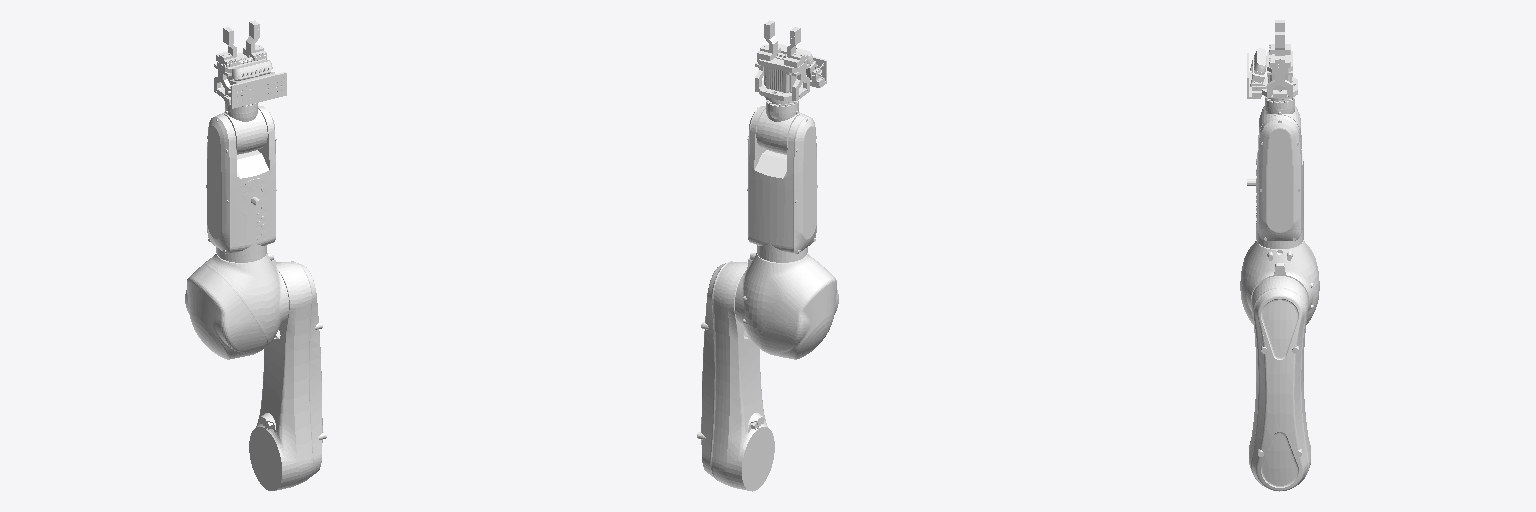
URDF robot description (rs007n):
<?xml version="1.0" ?>
<!-- =================================================================================== -->
<!-- |    This document was autogenerated by xacro from rs007n.urdf.xacro              | -->
<!-- |    EDITING THIS FILE BY HAND IS NOT RECOMMENDED                                 | -->
<!-- =================================================================================== -->
<robot name="rs007n" xmlns:xacro="http://ros.org/wiki/xacro">
  <transmission name="$join1_trans">
    <type>transmission_interface/SimpleTransmission</type>
    <actuator name="joint1_motor">
      <hardwareInterface>hardware_interface/PositionJointInterface</hardwareInterface>
      <mechanicalReduction>1</mechanicalReduction>
    </actuator>
    <joint name="joint1">
      <hardwareInterface>hardware_interface/PositionJointInterface</hardwareInterface>
    </joint>
  </transmission>
  <transmission name="$join2_trans">
    <type>transmission_interface/SimpleTransmission</type>
    <actuator name="joint2_motor">
      <hardwareInterface>hardware_interface/PositionJointInterface</hardwareInterface>
      <mechanicalReduction>1</mechanicalReduction>
    </actuator>
    <joint name="joint2">
      <hardwareInterface>hardware_interface/PositionJointInterface</hardwareInterface>
    </joint>
  </transmission>
  <transmission name="$join3_trans">
    <type>transmission_interface/SimpleTransmission</type>
    <actuator name="joint3_motor">
      <hardwareInterface>hardware_interface/PositionJointInterface</hardwareInterface>
      <mechanicalReduction>1</mechanicalReduction>
    </actuator>
    <joint name="joint3">
      <hardwareInterface>hardware_interface/PositionJointInterface</hardwareInterface>
    </joint>
  </transmission>
  <transmission name="$join4_trans">
    <type>transmission_interface/SimpleTransmission</type>
    <actuator name="joint4_motor">
      <hardwareInterface>hardware_interface/PositionJointInterface</hardwareInterface>
      <mechanicalReduction>1</mechanicalReduction>
    </actuator>
    <joint name="joint4">
      <hardwareInterface>hardware_interface/PositionJointInterface</hardwareInterface>
    </joint>
  </transmission>
  <transmission name="$join5_trans">
    <type>transmission_interface/SimpleTransmission</type>
    <actuator name="joint5_motor">
      <hardwareInterface>hardware_interface/PositionJointInterface</hardwareInterface>
      <mechanicalReduction>1</mechanicalReduction>
    </actuator>
    <joint name="joint5">
      <hardwareInterface>hardware_interface/PositionJointInterface</hardwareInterface>
    </joint>
  </transmission>
  <transmission name="$join6_trans">
    <type>transmission_interface/SimpleTransmission</type>
    <actuator name="joint6_motor">
      <hardwareInterface>hardware_interface/PositionJointInterface</hardwareInterface>
      <mechanicalReduction>1</mechanicalReduction>
    </actuator>
    <joint name="joint6">
      <hardwareInterface>hardware_interface/PositionJointInterface</hardwareInterface>
    </joint>
  </transmission>
  <!-- gazebo plugin -->
  <gazebo>
    <plugin filename="libgazebo_ros_control.so" name="gazebo_ros_control">
      <robotNamespace>/</robotNamespace>
    </plugin>
    <!--
    <plugin name="gazebo_ros_power_monitor_controller" filename="libgazebo_ros_power_monitor.so">
      <alwaysOn>true</alwaysOn>
      <updateRate>1.0</updateRate>
      <timeout>5</timeout>
      <powerStateTopic>power_state</powerStateTopic>
      <powerStateRate>10.0</powerStateRate>
      <fullChargeCapacity>87.78</fullChargeCapacity>     
      <dischargeRate>-474</dischargeRate>
      <chargeRate>525</chargeRate>
      <dischargeVoltage>15.52</dischargeVoltage>
      <chargeVoltage>16.41</chargeVoltage>
    </plugin>
-->
  </gazebo>
  <!-- link rviz colors -->
  <material name="White">
    <color rgba="1 1 1 1"/>
  </material>
  <material name="Black">
    <color rgba="0 0 0 1"/>
  </material>
  <!-- rs007n start -->
  <!-- Fix rs007n to world -->
  <link name="world"/>
  <joint name="world2base" type="fixed">
    <parent link="world"/>
    <child link="base_link"/>
    <origin rpy="0 0 0" xyz="0 0 0"/>
  </joint>
  <!-- Link 0 -->
  <link name="base_link">
    <visual>
      <geometry>
        <mesh filename="meshes/RS007N_J0.stl"/>
      </geometry>
      <material name="White"/>
      <origin rpy="0 0 0" xyz="0 0 0"/>
    </visual>
    <collision>
      <geometry>
        <mesh filename="meshes/RS007N_J0.stl"/>
      </geometry>
      <material name="White"/>
      <origin rpy="0 0 0" xyz="0 0 0"/>
    </collision>
    <inertial>
      <mass value="11"/>
      <inertia ixx="1.0" ixy="0.0" ixz="0.0" iyy="1.0" iyz="0.0" izz="1.0"/>
    </inertial>
  </link>
  <!-- Link 1 -->
  <joint name="joint1" type="revolute">
    <axis rpy="0 0 0" xyz="0 0 -1"/>
    <limit effort="1000.0" lower="-3.1415" upper="3.1415" velocity="8.20280555556"/>
    <origin rpy="0 0 0" xyz="0 0 0.36"/>
    <parent link="base_link"/>
    <child link="link1"/>
    <dynamics damping="0.0" friction="0.0"/>
  </joint>
  <link name="link1">
    <visual>
      <geometry>
        <mesh filename="meshes/RS007N_J1.stl"/>
      </geometry>
      <material name="White"/>
      <origin rpy="0 0 0" xyz="0 0 0"/>
    </visual>
    <collision>
      <geometry>
        <mesh filename="meshes/RS007N_J1.stl"/>
      </geometry>
      <material name="White"/>
      <origin rpy="0 0 0" xyz="0 0 0"/>
    </collision>
    <inertial>
      <mass value="8.188"/>
      <inertia ixx="1.0" ixy="0.0" ixz="0.0" iyy="1.0" iyz="0.0" izz="1.0"/>
    </inertial>
  </link>
  <!-- Link 2 -->
  <joint name="joint2" type="revolute">
    <axis rpy="0 0 0" xyz="0 0 1"/>
    <limit effort="1000.0" lower="-2.356125" upper="2.356125" velocity="6.63205555556"/>
    <origin rpy="0 -1.57075 0" xyz="0 0 0.0"/>
    <parent link="link1"/>
    <child link="link2"/>
    <dynamics damping="0.0" friction="0.0"/>
  </joint>
  <link name="link2">
    <visual>
      <geometry>
        <mesh filename="meshes/RS007N_J2_rotated.stl"/>
      </geometry>
      <material name="White"/>
      <origin rpy="0 0 0" xyz="0 0 0"/>
    </visual>
    <collision>
      <geometry>
        <mesh filename="meshes/RS007N_J2_rotated.stl"/>
      </geometry>
      <material name="White"/>
      <origin rpy="0 0 0" xyz="0 0 0"/>
    </collision>
    <inertial>
      <mass value="5.842"/>
      <inertia ixx="1.0" ixy="0.0" ixz="0.0" iyy="1.0" iyz="0.0" izz="1.0"/>
    </inertial>
  </link>
  <!-- Link 3 -->
  <joint name="joint3" type="revolute">
    <axis rpy="0 0 0" xyz="0 0 -1"/>
    <limit effort="1000.0" lower="-2.70518055556" upper="2.70518055556" velocity="9.07544444444"/>
    <origin rpy="0 0 0" xyz="0.355 0 0"/>
    <parent link="link2"/>
    <child link="link3"/>
    <dynamics damping="0.0" friction="0.0"/>
  </joint>
  <link name="link3">
    <visual>
      <geometry>
        <mesh filename="meshes/RS007N_J3_rotated.stl"/>
      </geometry>
      <material name="White"/>
      <origin rpy="0 0 0" xyz="0 0 0"/>
    </visual>
    <collision>
      <geometry>
        <mesh filename="meshes/RS007N_J3_rotated.stl"/>
      </geometry>
      <material name="White"/>
      <origin rpy="0 0 0" xyz="0 0 0"/>
    </collision>
    <inertial>
      <mass value="5.236"/>
      <inertia ixx="1.0" ixy="0.0" ixz="0.0" iyy="1.0" iyz="0.0" izz="1.0"/>
    </inertial>
  </link>
  <!-- Link 4 -->
  <joint name="joint4" type="revolute">
    <axis rpy="0 0 0" xyz="0 0 1"/>
    <limit effort="1000.0" lower="-3.49055555556" upper="3.49055555556" velocity="9.59902777778"/>
    <origin rpy="0 1.57075 0" xyz="0.0925 0 0"/>
    <parent link="link3"/>
    <child link="link4"/>
    <dynamics damping="0.0" friction="0.0"/>
  </joint>
  <link name="link4">
    <visual>
      <geometry>
        <mesh filename="meshes/RS007N_J4_translated.stl"/>
      </geometry>
      <material name="White"/>
      <origin rpy="0 0 0" xyz="0 0 0"/>
    </visual>
    <collision>
      <geometry>
        <mesh filename="meshes/RS007N_J4_translated.stl"/>
      </geometry>
      <material name="White"/>
      <origin rpy="0 0 0" xyz="0 0 0"/>
    </collision>
    <inertial>
      <mass value="4.461"/>
      <inertia ixx="1.0" ixy="0.0" ixz="0.0" iyy="1.0" iyz="0.0" izz="1.0"/>
    </inertial>
  </link>
  <!-- Link 5 -->
  <joint name="joint5" type="revolute">
    <axis rpy="0 0 0" xyz="0 0 -1"/>
    <limit effort="1000.0" lower="-2.18159722222" upper="2.18159722222" velocity="9.59902777778"/>
    <origin rpy="0 -1.57075 0" xyz="0 0 0.2825"/>
    <parent link="link4"/>
    <child link="link5"/>
    <dynamics damping="0.0" friction="0.0"/>
  </joint>
  <link name="link5">
    <visual>
      <geometry>
        <mesh filename="meshes/RS007N_J5_rotated.stl"/>
      </geometry>
      <material name="White"/>
      <origin rpy="0 0 0" xyz="0 0 0"/>
    </visual>
    <collision>
      <geometry>
        <mesh filename="meshes/RS007N_J5_rotated.stl"/>
      </geometry>
      <material name="White"/>
      <origin rpy="0 0 0" xyz="0 0 0"/>
    </collision>
    <inertial>
      <mass value="1.625"/>
      <inertia ixx="1.0" ixy="0.0" ixz="0.0" iyy="1.0" iyz="0.0" izz="1.0"/>
    </inertial>
  </link>
  <!-- Link 6 -->
  <joint name="joint6" type="revolute">
    <axis rpy="0 0 0" xyz="0 0 1"/>
    <limit effort="1000.0" lower="-6.283" upper="6.283" velocity="17.4527777778"/>
    <origin rpy="0 1.57075 0" xyz="0.078 0 0"/>
    <parent link="link5"/>
    <child link="link6"/>
    <dynamics damping="0.0" friction="0.0"/>
  </joint>
  <link name="link6">
    <visual>
      <geometry>
        <mesh filename="meshes/RS007N_J6.stl"/>
      </geometry>
      <material name="Black"/>
      <origin rpy="0 0 0" xyz="0 0 0"/>
    </visual>
    <collision>
      <geometry>
        <mesh filename="meshes/RS007N_J6.stl"/>
      </geometry>
      <material name="Black"/>
      <origin rpy="0 0 0" xyz="0 0 0"/>
    </collision>
    <inertial>
      <mass value="0.625"/>
      <inertia ixx="1.0" ixy="0.0" ixz="0.0" iyy="1.0" iyz="0.0" izz="1.0"/>
    </inertial>
  </link>
  <joint name="gripper_joint" type="fixed">
    <parent link="link6"/>
    <child link="gripper_link"/>
    <origin rpy="0 0 0" xyz="0 0 0.151"/>
  </joint>
  <link name="gripper_link">
    <visual>
      <geometry>
        <mesh filename="meshes/ASCENT_ELEC_GRIPPER.stl"/>
      </geometry>
      <material name="White"/>
      <origin rpy="0 0 0" xyz="0 0 0"/>
    </visual>
    <collision>
      <geometry>
        <mesh filename="meshes/ASCENT_ELEC_GRIPPER.stl"/>
      </geometry>
      <material name="White"/>
      <origin rpy="0 0 0" xyz="0 0 0"/>
    </collision>
    <inertial>
      <mass value="0.5"/>
      <inertia ixx="1.0" ixy="0.0" ixz="0.0" iyy="1.0" iyz="0.0" izz="1.0"/>
    </inertial>
  </link>
</robot>

--- Render facts (derived) ---
3 views of the same robot in one strip: view 1: azimuth 30°, elevation 25°; view 2: azimuth 150°, elevation 25°; view 3: azimuth 270°, elevation 25° (orthographic).
Robot: rs007n — 9 links, 8 joints (6 revolute, 2 fixed); root link world; default pose: all joints at 0.
Visible links, largest first — view 1: link2, link4, link3, gripper_link, link5; view 2: link2, link4, link3, gripper_link, link5; view 3: link2, link4, link3, gripper_link, link5.
Boxes of the visible links, x1=… form: link2: x1=249, y1=261, x2=326, y2=490; link4: x1=206, y1=106, x2=276, y2=262; link3: x1=185, y1=253, x2=288, y2=359; gripper_link: x1=214, y1=20, x2=286, y2=108; link5: x1=222, y1=103, x2=267, y2=154; link2: x1=697, y1=261, x2=774, y2=491; link4: x1=747, y1=106, x2=817, y2=262; link3: x1=735, y1=253, x2=838, y2=359; gripper_link: x1=755, y1=20, x2=826, y2=102; link5: x1=756, y1=99, x2=801, y2=154; link2: x1=1249, y1=276, x2=1310, y2=491; link4: x1=1247, y1=106, x2=1303, y2=248; link3: x1=1240, y1=240, x2=1319, y2=324; gripper_link: x1=1247, y1=20, x2=1297, y2=99; link5: x1=1259, y1=96, x2=1300, y2=132.
Size in the robot's own frame: 0.273 by 0.1677 by 1.03 metres.
5 mesh visuals loaded from 8 distinct referenced files (5 binary STL); not drawn: 3 (reference not matched to a file when rendering).
